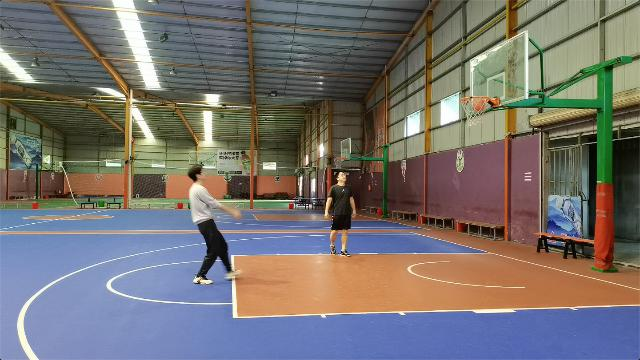basket: (459, 95, 489, 126)
goal: (472, 97, 486, 111)
